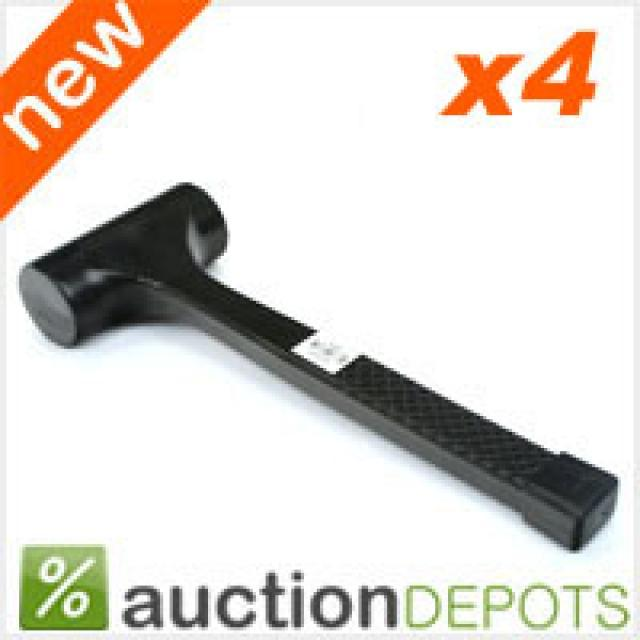hammer: (12, 177, 626, 557)
